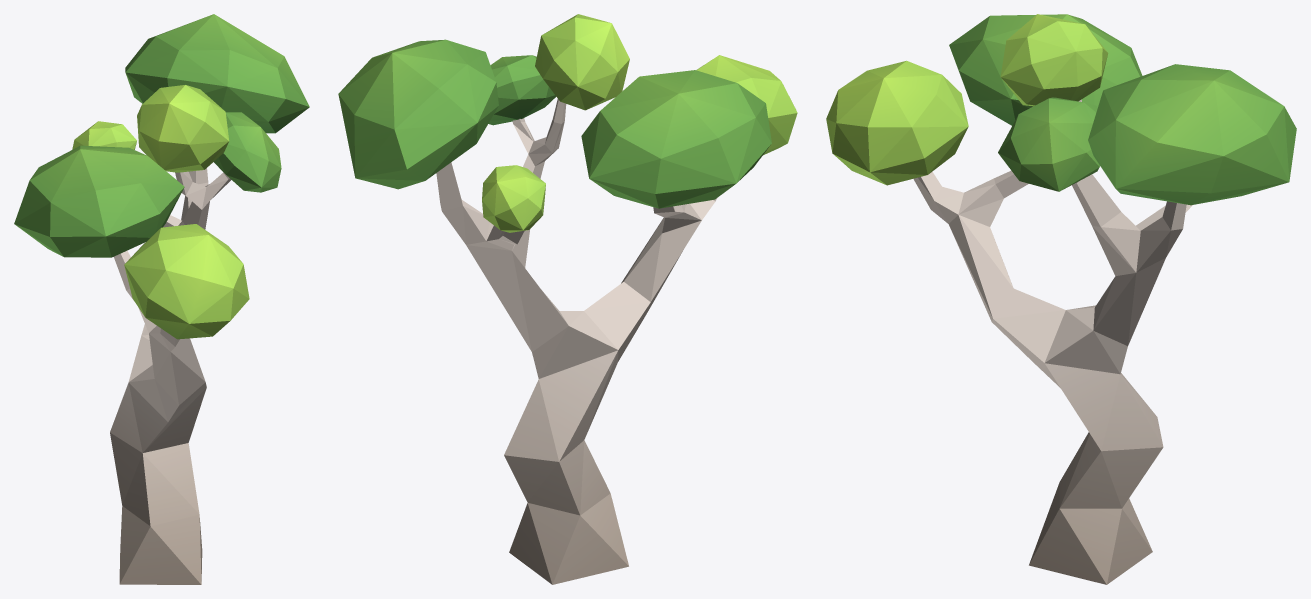
Rendered from GreenTree4.fbx.
The picture shows the model from 3 angles, left to right: view 1: azimuth 30°, elevation 25°; view 2: azimuth 150°, elevation 25°; view 3: azimuth 270°, elevation 25°; orthographic projection. The views are drawn at different scales.
Visible parts, largest first — view 1: GreenTree4; view 2: GreenTree4; view 3: GreenTree4.
Part boxes in pixels (x1,y1,x2,y2): GreenTree4: (14, 14, 309, 584); GreenTree4: (338, 14, 797, 584); GreenTree4: (826, 14, 1296, 584).
Size of the model in its own units: 285 by 429 by 337.
